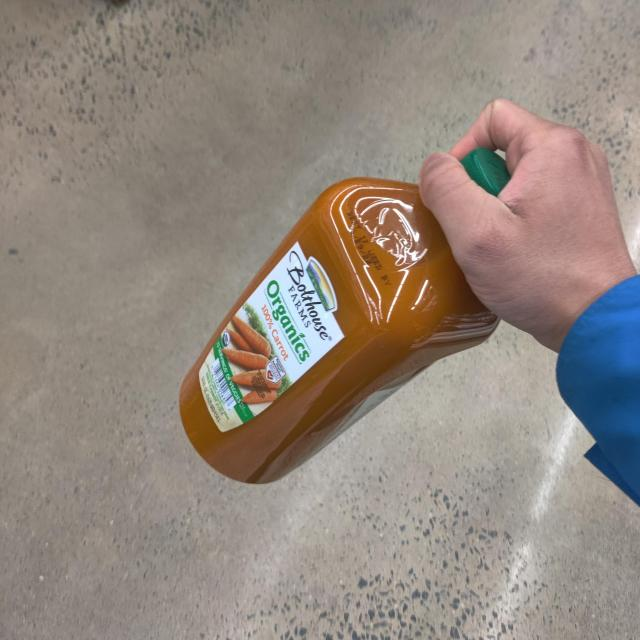Juice: (148, 128, 534, 504)
